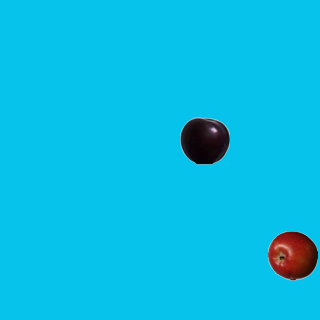Apple Braeburn: (267, 230, 317, 280)
Cherry Wax Black: (179, 115, 229, 165)
